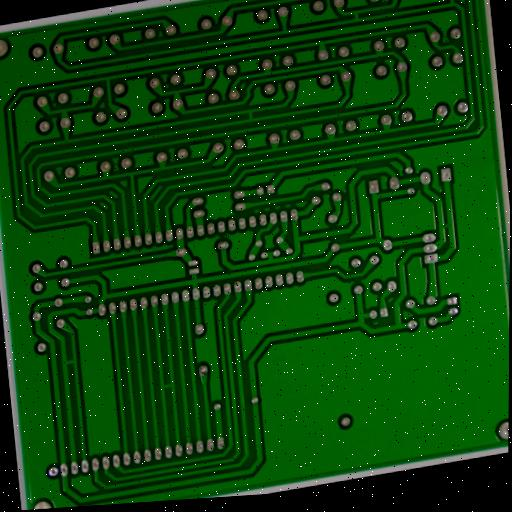short_circuit: (436, 215, 458, 235), (349, 7, 366, 25), (61, 354, 81, 369), (160, 378, 178, 394), (243, 107, 257, 126)
